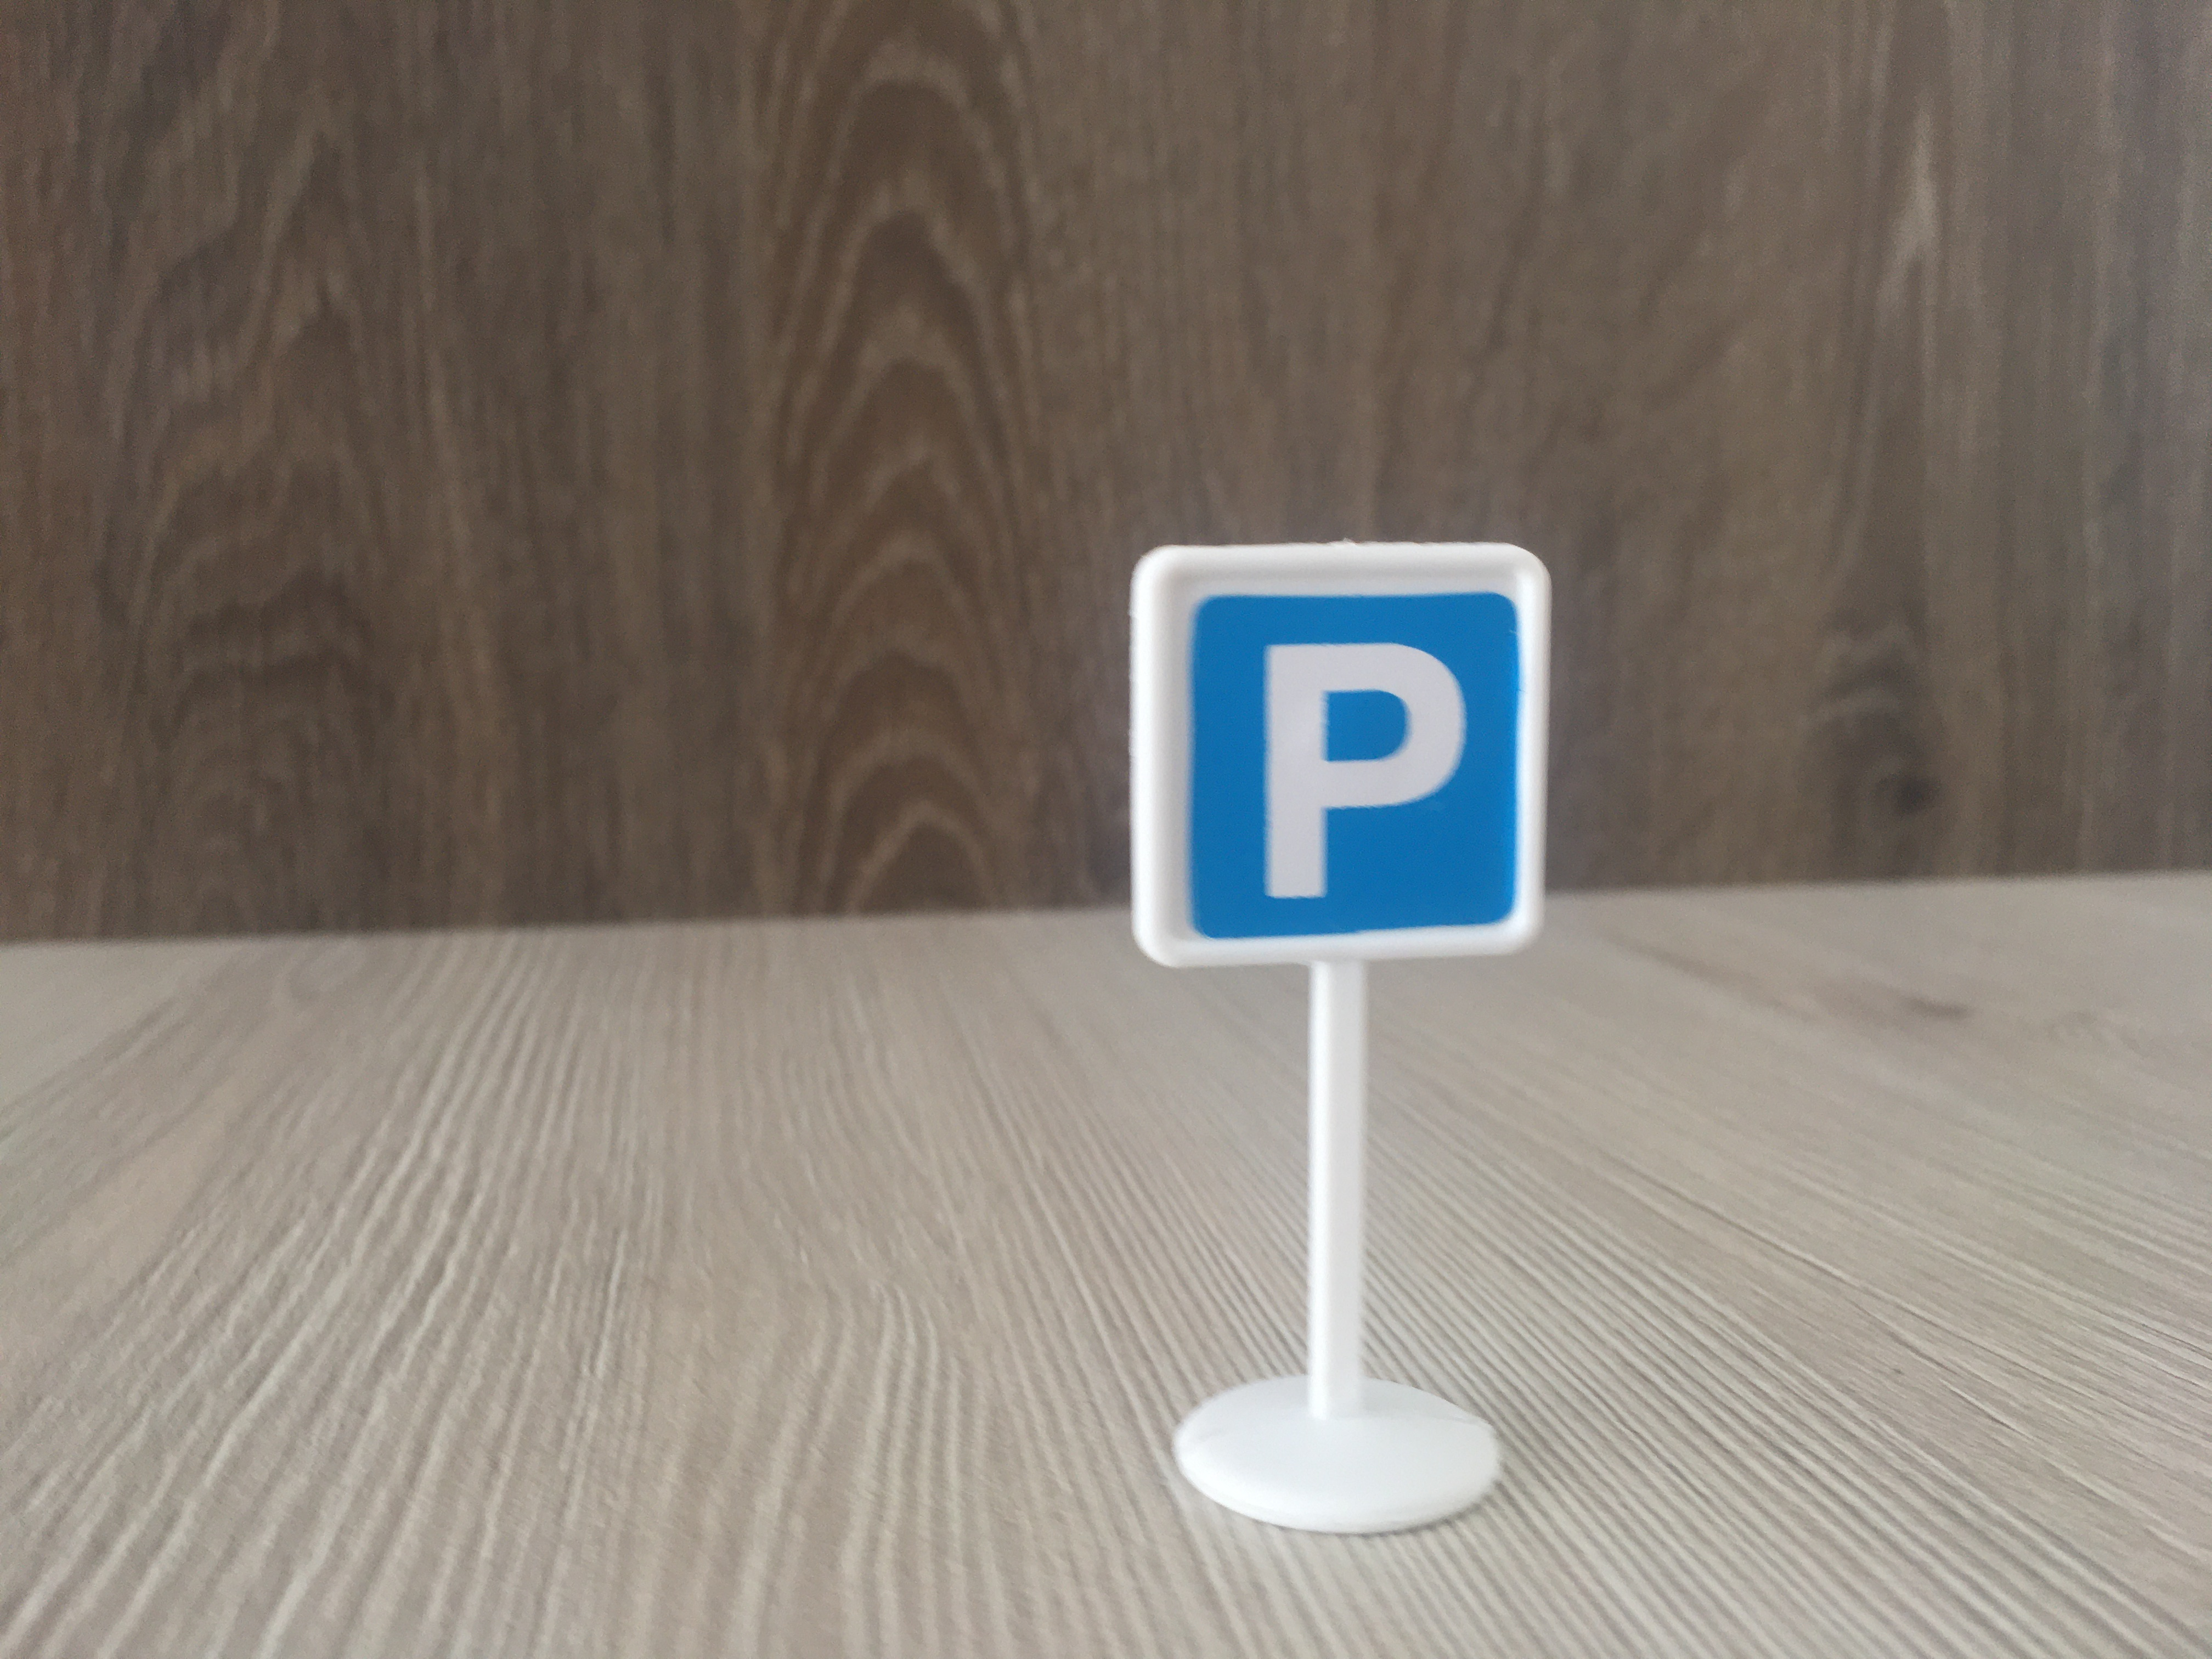parking: (1120, 538, 1559, 976)
